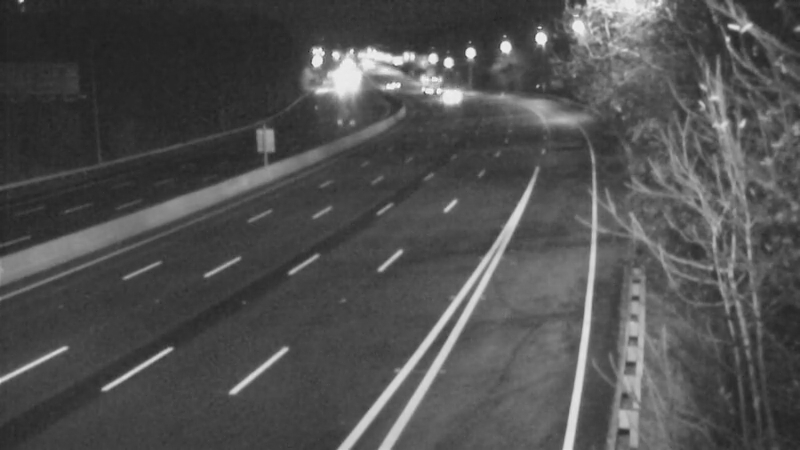vehicle: (373, 57, 423, 107), (362, 63, 412, 113), (404, 57, 454, 107), (424, 71, 474, 121)
